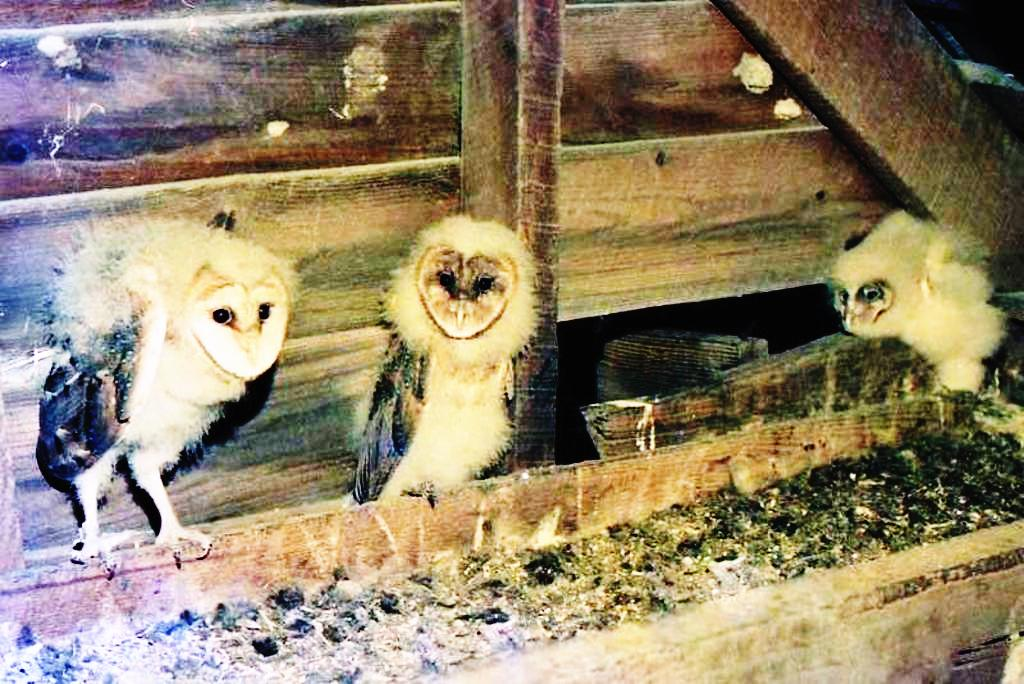Owl: (29, 216, 297, 568), (334, 213, 542, 500), (822, 204, 1010, 401)
